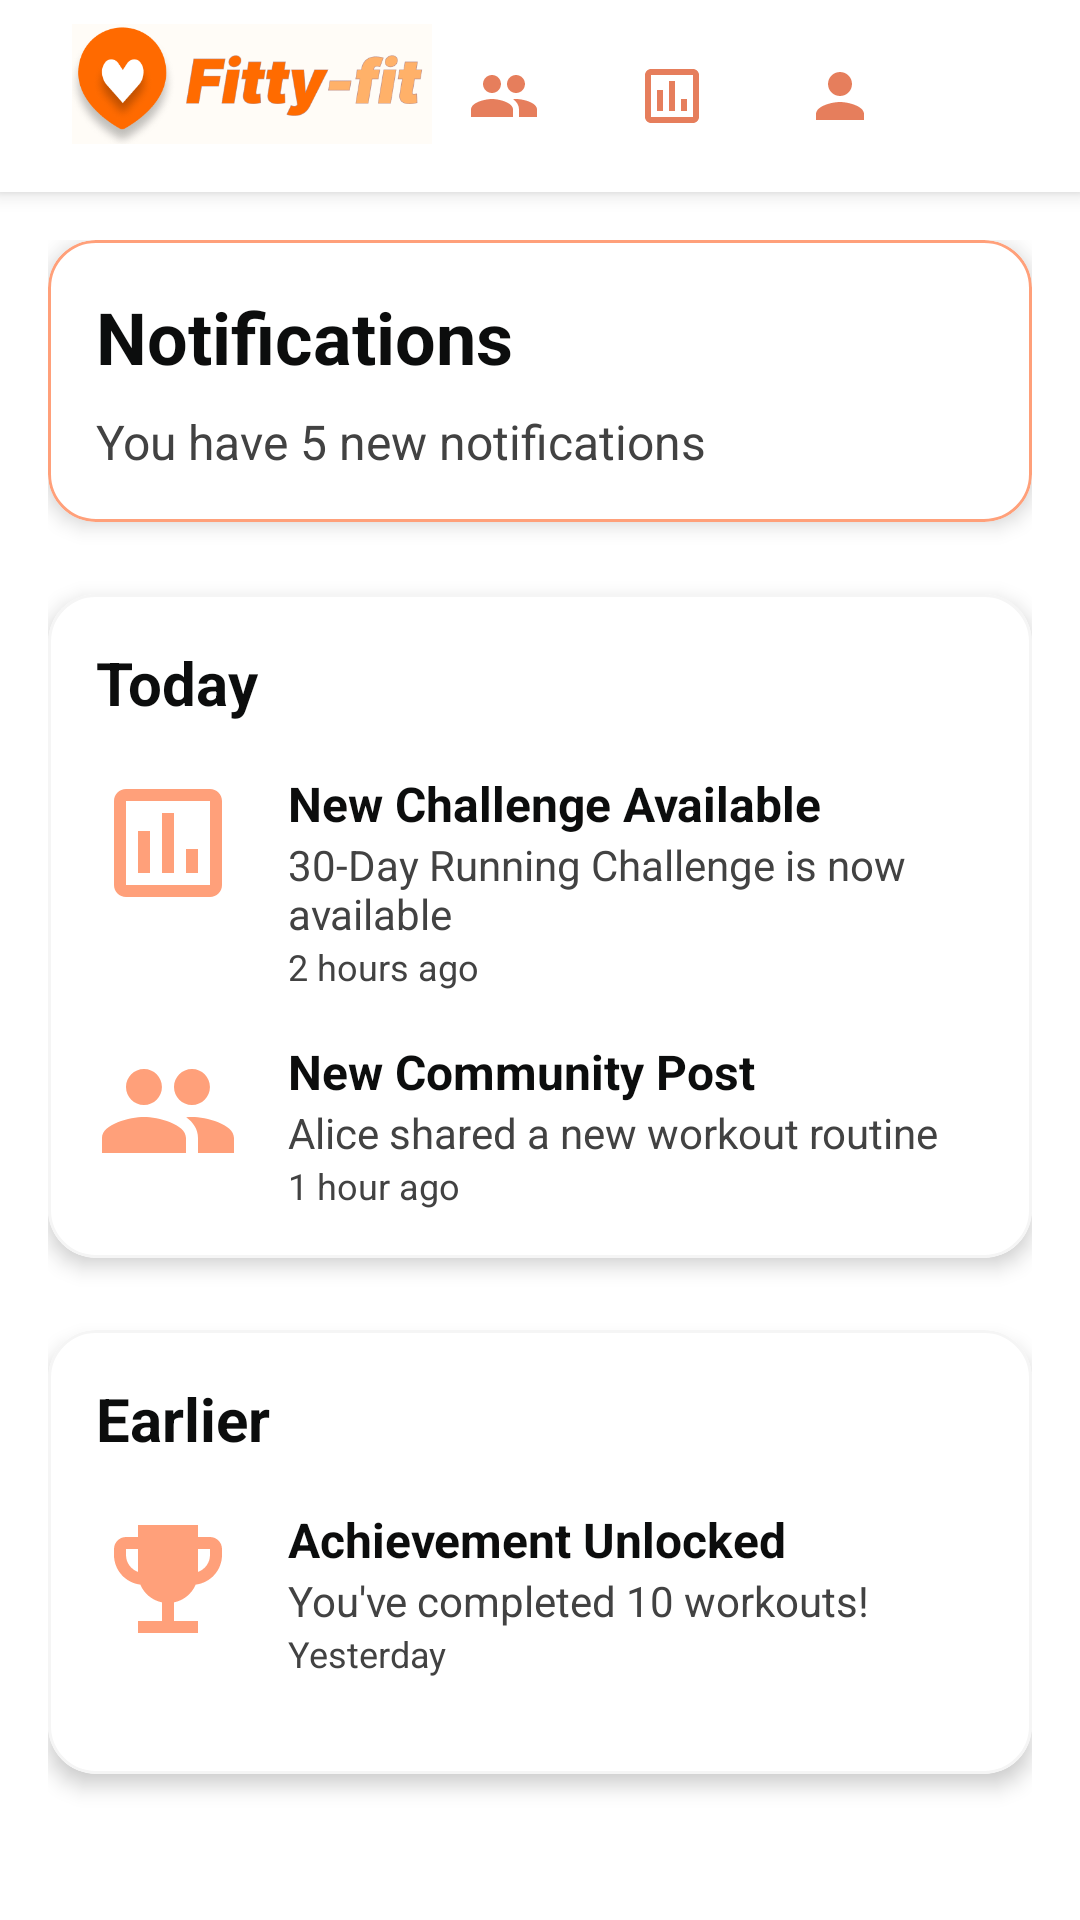

Icon click points for this 1080*1920 phone screenshot, format [x,y]:
challenges: [672,96], [168,843]
profile: [840,96]
